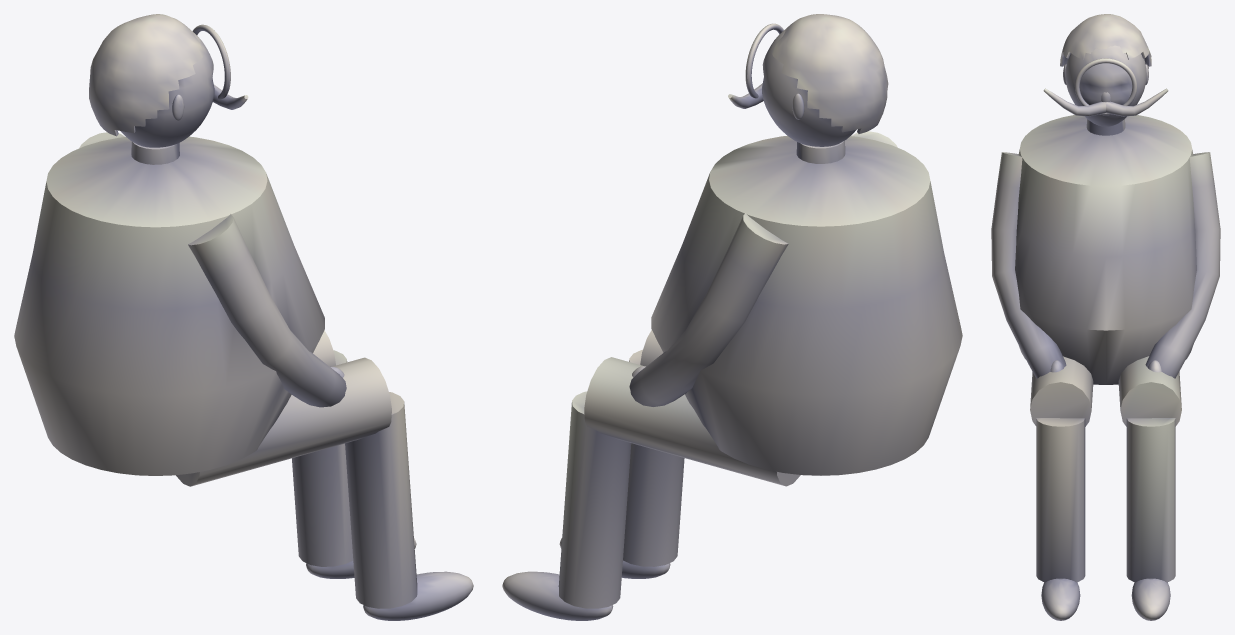
Rendered from ghatak.glb.
3 views of the same model, side by side, from view 1: azimuth 30°, elevation 25°; view 2: azimuth 150°, elevation 25°; view 3: azimuth 270°, elevation 25° (orthographic). The views are drawn at different scales.
Visible parts, largest first — view 1: body; view 2: body; view 3: body.
Boxes of the visible parts, box(x1,y1,x2,y2) form: body: box(14, 14, 473, 620); body: box(502, 14, 962, 620); body: box(991, 14, 1220, 620).
Size of the model in its own units: 0.912 by 1.34 by 0.5584.
